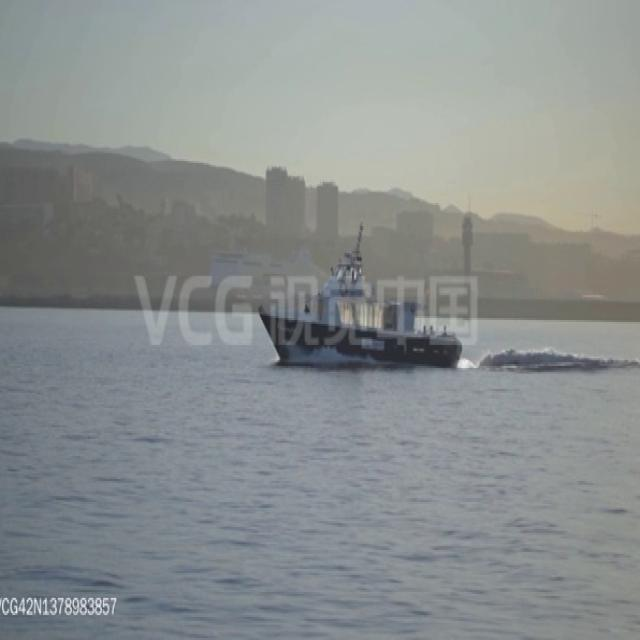houseboat: (259, 221, 455, 375)
